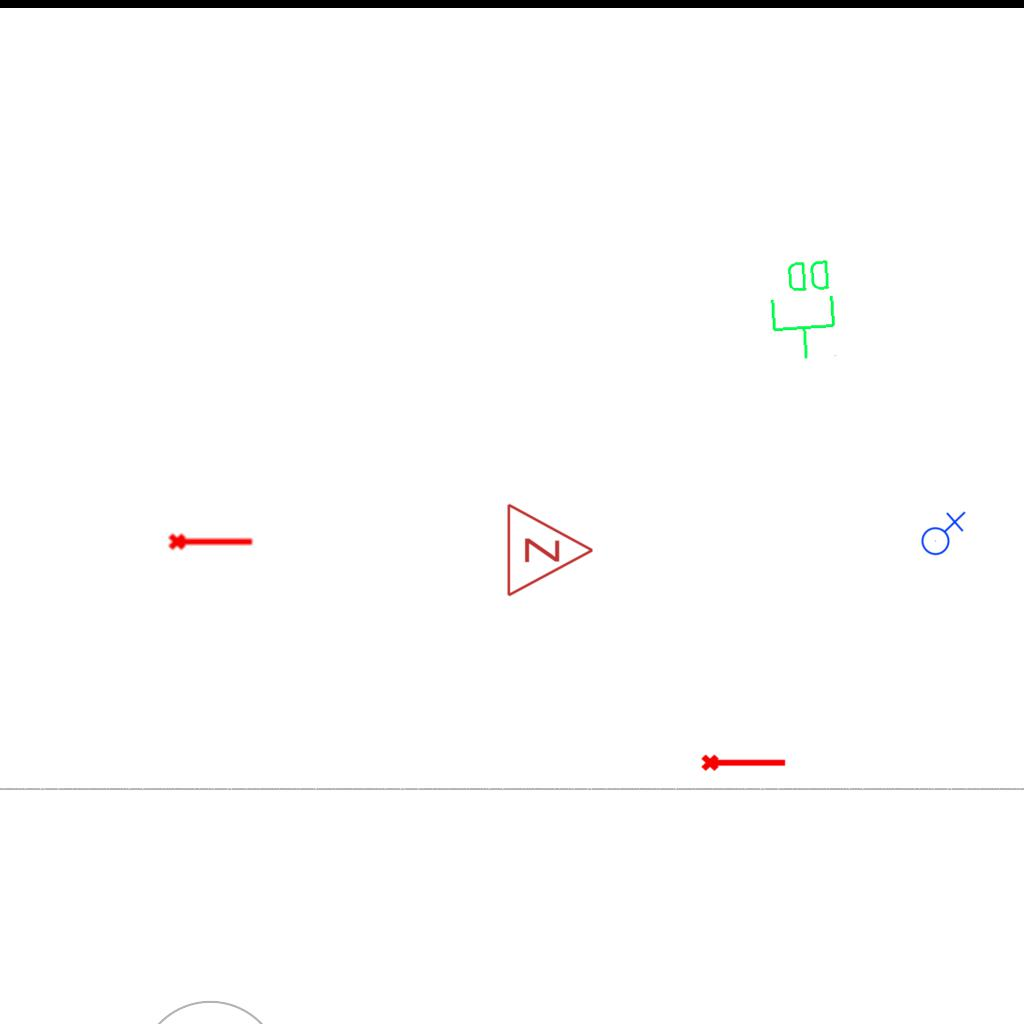ASR_Ansaugoeffnung: (700, 750, 788, 773), (167, 529, 255, 552)
Datenanschluss_zweifach: (765, 255, 842, 364)
Elektroanschluss_allgemein_230V_Geraeteanschlussdose_230V: (917, 509, 966, 556)
Zimmersignalleuchte: (500, 500, 600, 598)
